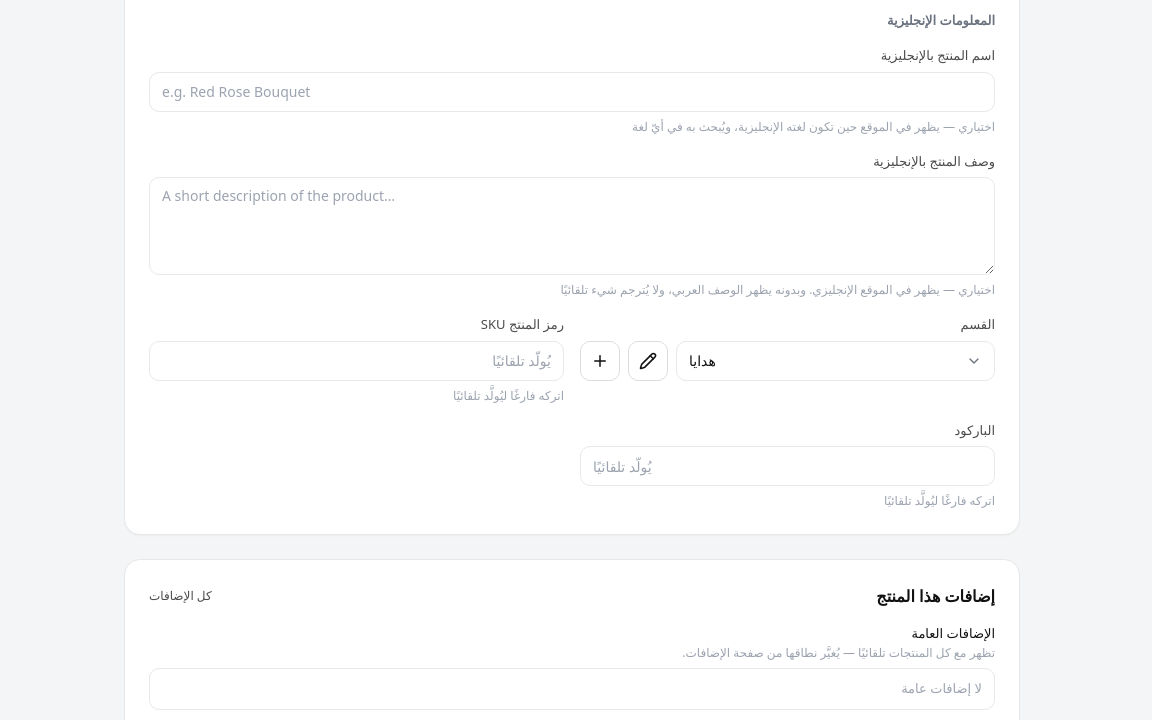
Scenario: القسمُ باسمين من شاشة المنتج › والقسمُ المختار يُسمّى في صفّه — بمعرّفه، والحقلان مملوءان بما فيه
(page scrolled)
Click the button named "تعديل اسم القسم" at (648, 360), box left=628, top=340, right=668, bottom=380
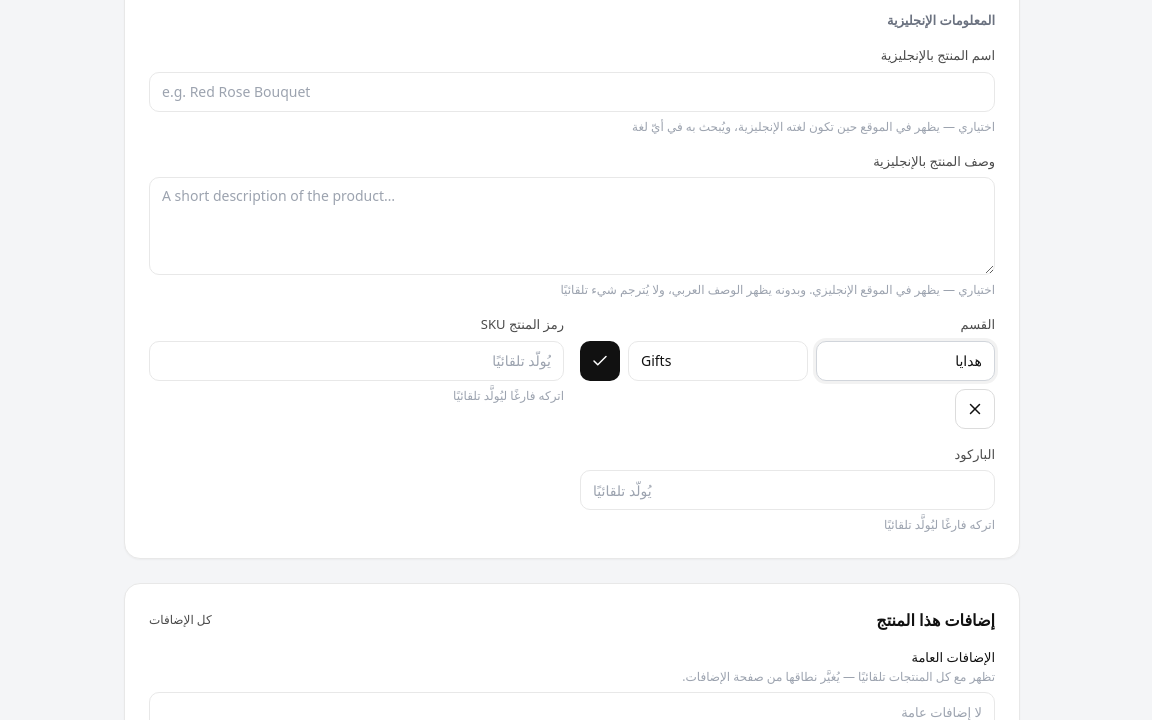
Expected: the field named "اسم القسم بالعربية" holds "هدايا", left=816, top=340, right=995, bottom=380
Expected: the field named "اسم القسم بالإنجليزية" holds "Gifts"
Replace the text in the field named "اسم القسم بالإنجليزية" with "Presents" at (718, 360), box left=628, top=340, right=808, bottom=380
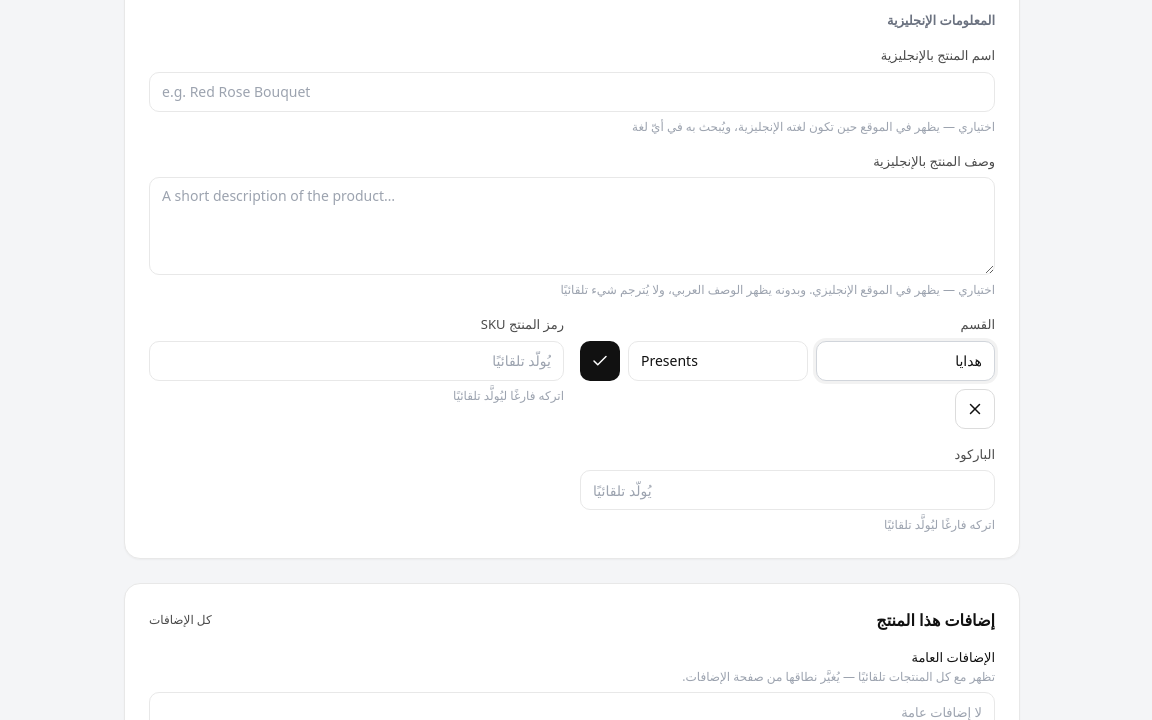
Click the button named "حفظ القسم" at (600, 360), box left=580, top=340, right=620, bottom=380
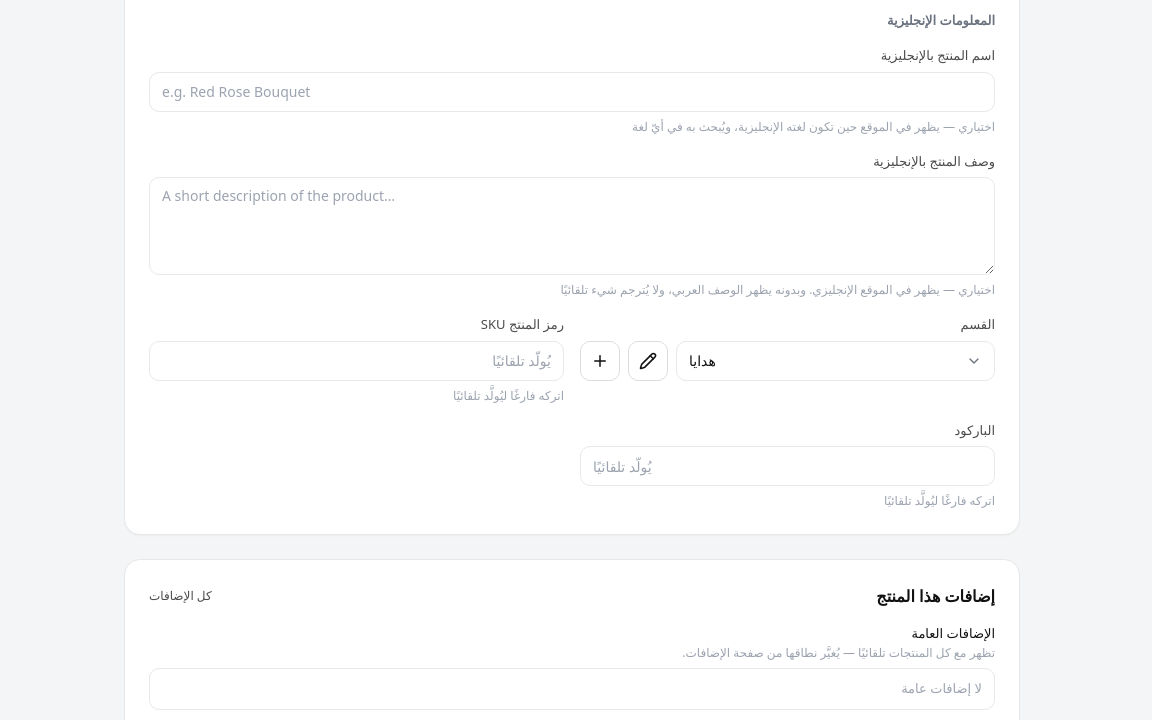
Expected: the dropdown reads "هدايا", left=676, top=340, right=995, bottom=380
